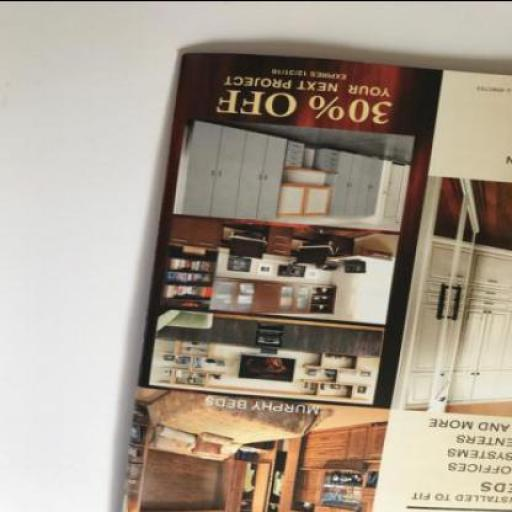paper: (118, 52, 511, 510)
